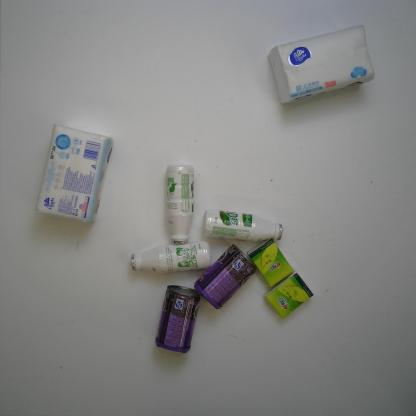Canned Food: (192, 244, 258, 310), (155, 284, 200, 354)
Milk: (131, 240, 211, 275), (201, 209, 283, 243), (165, 164, 196, 245)
Tissue: (268, 24, 374, 104), (35, 122, 114, 224), (264, 271, 314, 320), (247, 237, 294, 288)
